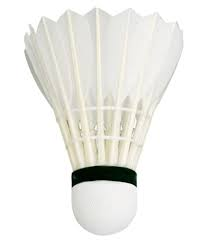shuttle: (19, 13, 175, 226)
